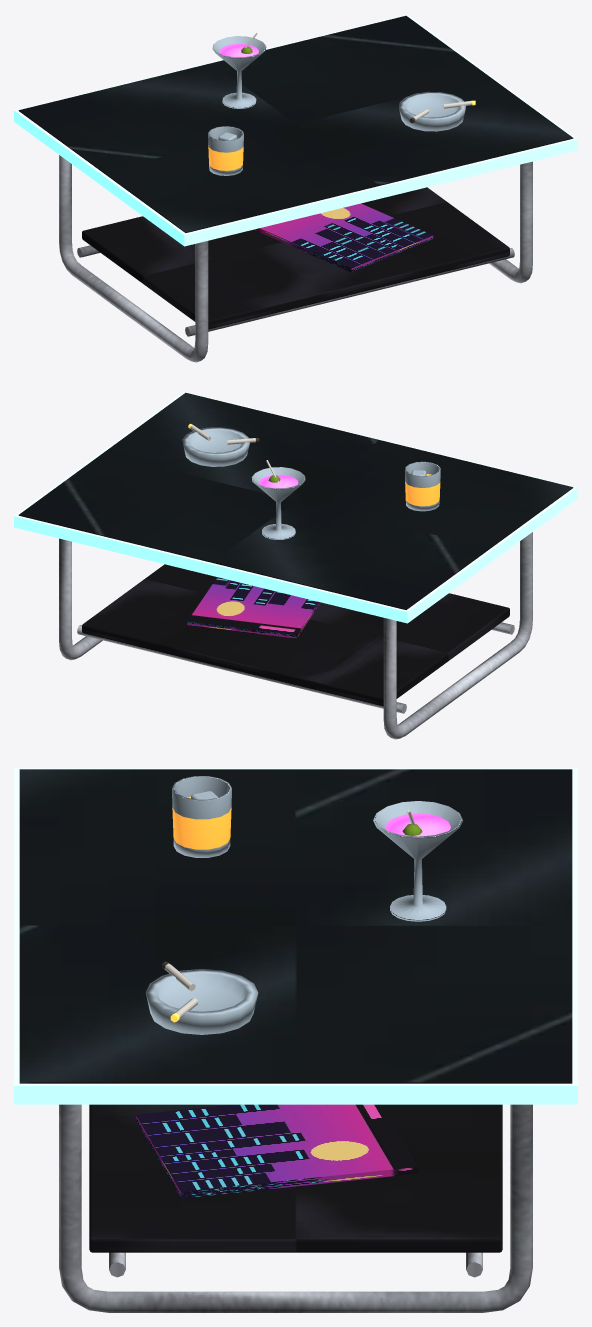
The model's file is prop_lowTable.glb.
3 views of the same model, one above another, from view 1: azimuth 30°, elevation 25°; view 2: azimuth 150°, elevation 25°; view 3: azimuth 270°, elevation 25° (orthographic). The views are drawn at different scales.
Visible parts, largest first — view 1: prop; view 2: prop; view 3: prop.
Part boxes in pixels (<box>): prop: <box>14,14,577,362</box>; prop: <box>14,391,577,739</box>; prop: <box>14,768,577,1312</box>.
Size of the model in its own units: 0.8 by 0.4312 by 0.6.
Materials: 11 (4 with a texture image).
